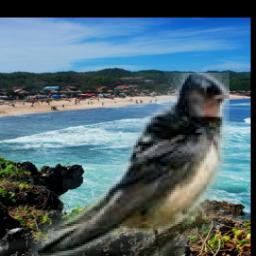Swallow: (0, 74, 229, 256)
